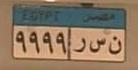9: (55, 30, 67, 56), (41, 30, 54, 54), (15, 30, 28, 54), (28, 30, 40, 55)
noon: (108, 34, 122, 56)
raa: (72, 36, 88, 55)
seen: (89, 37, 106, 55)
